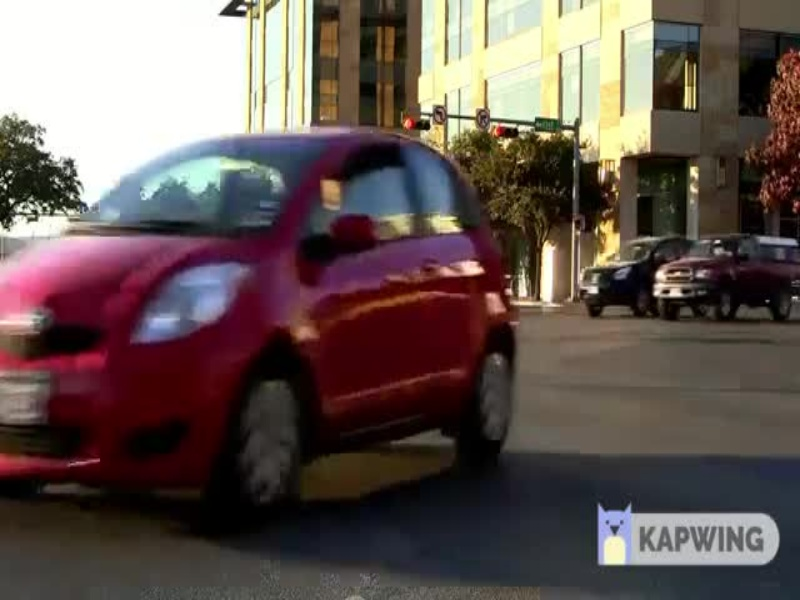car: (1, 114, 528, 492)
suv: (576, 234, 691, 319)
truck: (656, 231, 800, 321)
